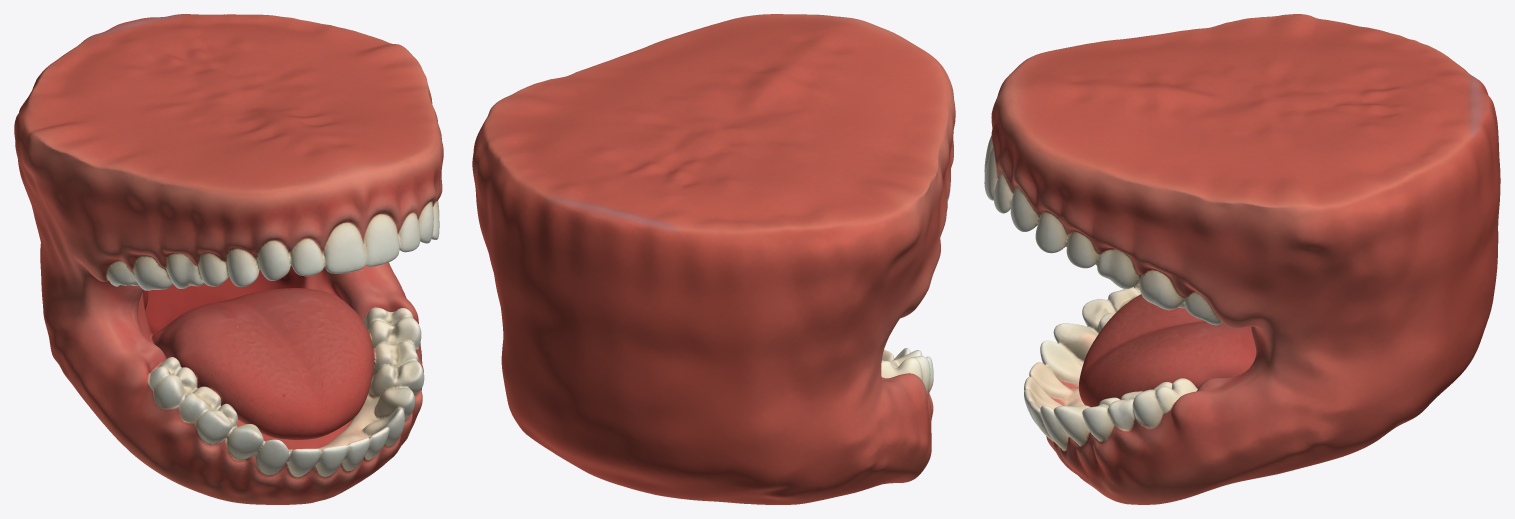
Rendered from Meshy_AI_Open_Mouth_Anatomy_1011144708_texture.glb.
3 renders of one model, left to right at view 1: azimuth 30°, elevation 25°; view 2: azimuth 150°, elevation 25°; view 3: azimuth 270°, elevation 25°, orthographic. The views are drawn at different scales.
Bounding box in the file's own units: 1.73 × 1.58 × 1.9.
1 material, 1 textured.
